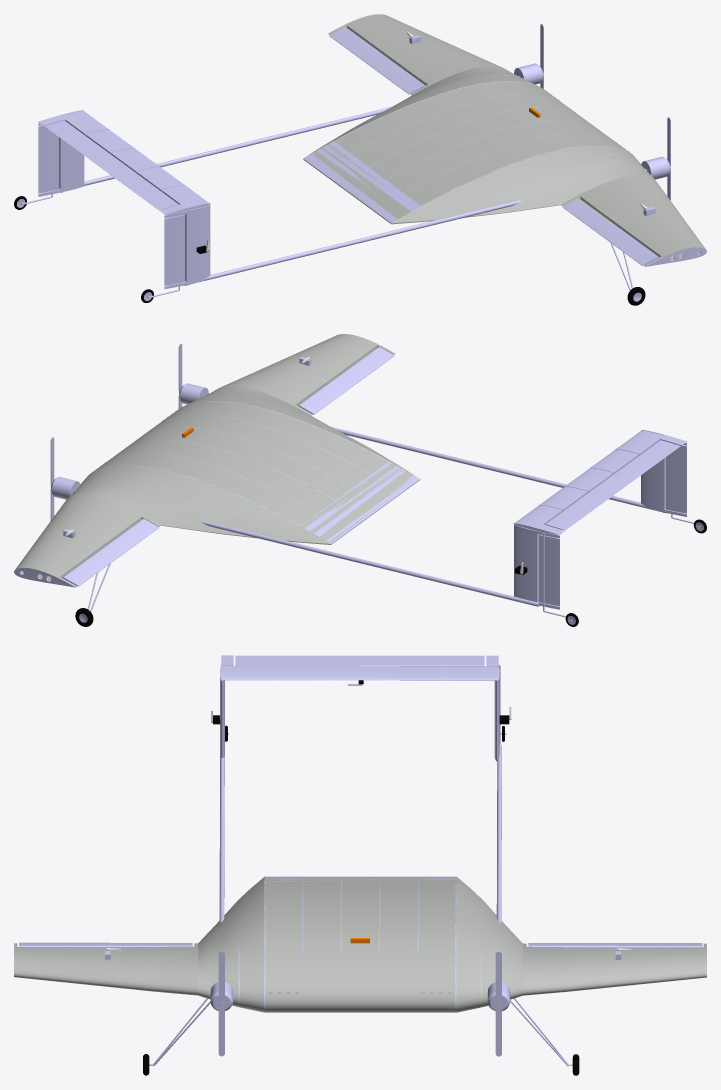
Rendered from Udaan-Product4.gltf.
3 renders of one model, top to bottom at view 1: azimuth 30°, elevation 25°; view 2: azimuth 150°, elevation 25°; view 3: azimuth 270°, elevation 25°, orthographic. The views are drawn at different scales.
Parts seen in each view (by area): view 1: Skin, Vertical-Foam (×2), Rudder (×2), Center Section Trailing Edge, Elevator, Aileron, Aileron001, boom001, boom, Horizontallead001, Horizontallead, Horizontallead003 (+5 smaller); view 2: Skin, Vertical-Foam (×2), Rudder (×2), Elevator, Center Section Trailing Edge, Aileron, Aileron001, boom, boom001, Horizontallead001, Horizontallead, Horizontallead002 (+5 smaller); view 3: Skin, Elevator, Propellor (×2), boom001, boom, Aileron, Center Section Trailing Edge, Aileron001, Horizontallead003, Horizontallead001, Horizontallead002, Horizontallead (+1 smaller).
Part boxes in pixels (x1,y1,x2,y2): Skin: (303, 14, 705, 265); Vertical-Foam (×2): (38, 123, 210, 289); Rudder (×2): (38, 125, 184, 285); Center Section Trailing Edge: (303, 141, 421, 223); Elevator: (45, 120, 178, 210); Aileron: (329, 27, 425, 94); Aileron001: (562, 198, 658, 265); boom001: (184, 169, 646, 285); boom: (84, 76, 519, 185); Horizontallead001: (138, 166, 183, 188); Horizontallead: (88, 129, 132, 151); Horizontallead003: (62, 111, 107, 132); Skin: (15, 334, 419, 586); Vertical-Foam (×2): (514, 443, 686, 609); Rudder (×2): (539, 444, 686, 606); Elevator: (545, 440, 680, 530); Center Section Trailing Edge: (302, 461, 420, 544); Aileron: (62, 518, 159, 586); Aileron001: (297, 347, 394, 414); boom: (74, 489, 539, 606); boom001: (203, 395, 666, 513); Horizontallead001: (591, 449, 636, 471); Horizontallead: (541, 486, 585, 508); Horizontallead002: (617, 430, 662, 452); Skin: (14, 876, 706, 1012); Elevator: (235, 655, 484, 666); Propellor (×2): (218, 951, 501, 1056); boom001: (219, 756, 224, 923); boom: (496, 744, 501, 923); Aileron: (528, 943, 702, 947); Center Section Trailing Edge: (264, 877, 456, 881); Aileron001: (19, 942, 192, 946); Horizontallead003: (443, 667, 497, 680); Horizontallead001: (277, 667, 331, 680); Horizontallead002: (222, 667, 276, 680); Horizontallead: (388, 667, 441, 680).
Bounding box in the file's own units: 1.31 × 0.4116 × 1.37.
